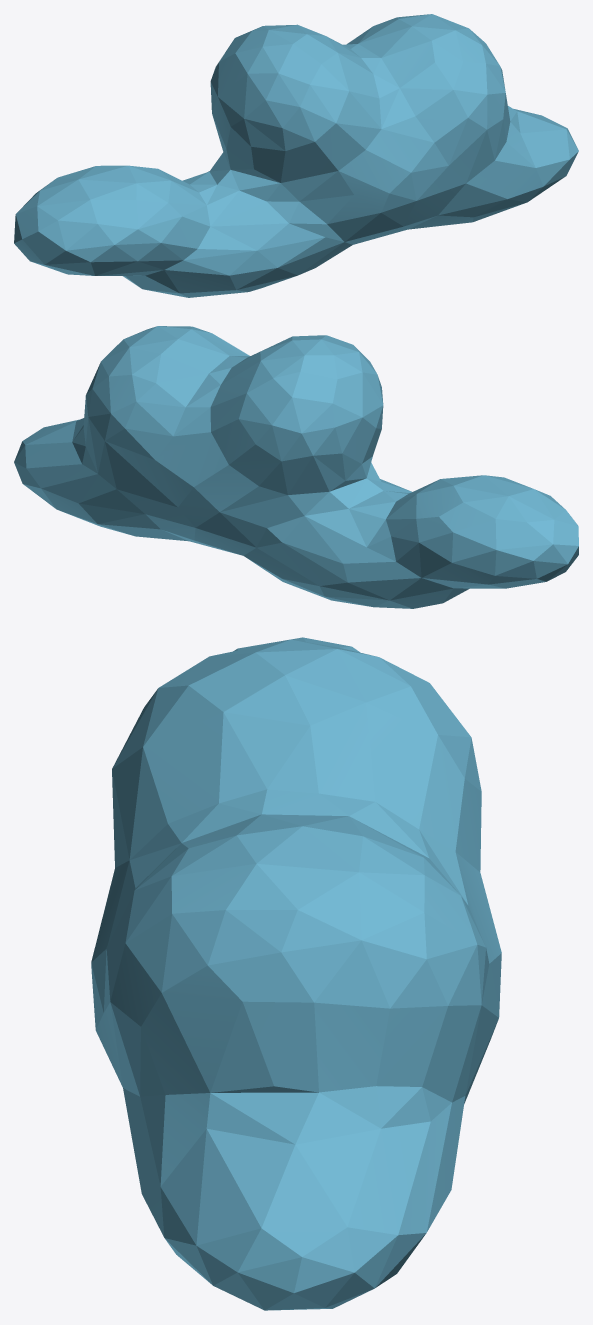
File: oval_cloud_6.fbx
3 views of the same model, one above another, from view 1: azimuth 30°, elevation 25°; view 2: azimuth 150°, elevation 25°; view 3: azimuth 270°, elevation 25° (orthographic). The views are drawn at different scales.
Visible parts, largest first — view 1: cloud_66; view 2: cloud_66; view 3: cloud_66.
Boxes of the visible parts, bbox=[...] form: cloud_66: bbox=[14, 14, 578, 297]; cloud_66: bbox=[14, 326, 578, 608]; cloud_66: bbox=[91, 637, 501, 1310].
Bounding box in the file's own units: 572 × 230 × 184.
